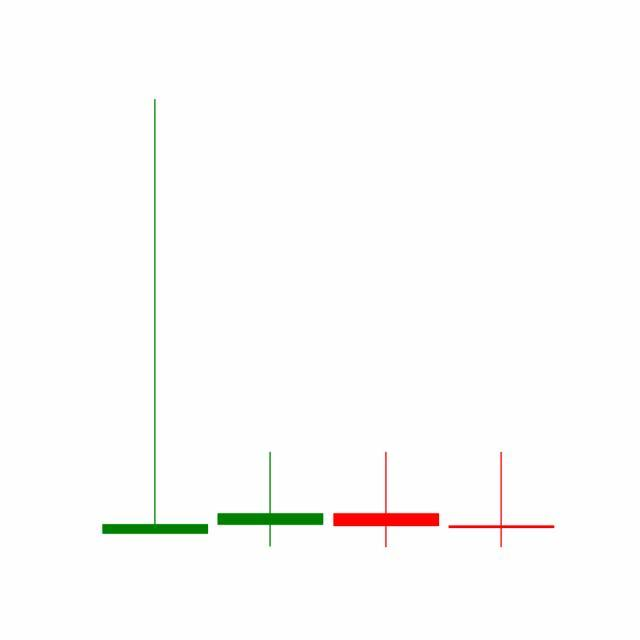Spinning Top: (329, 451, 445, 549)
